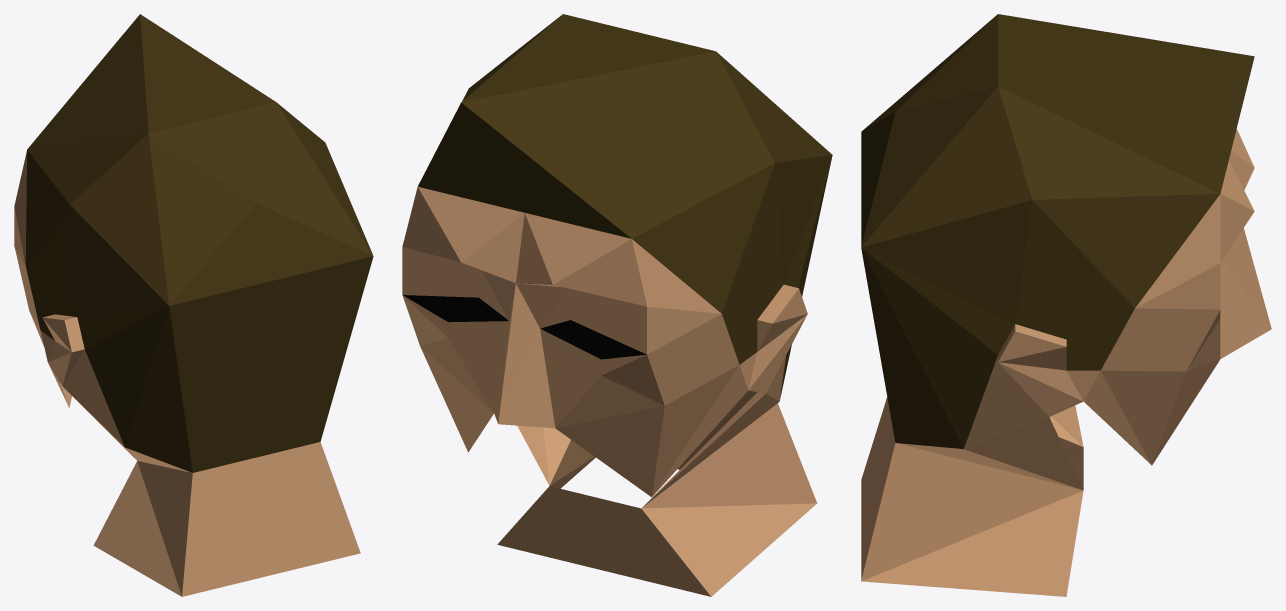
The model's file is player_male_head_6_0.obj.
3 renders of one model, left to right at view 1: azimuth 30°, elevation 25°; view 2: azimuth 150°, elevation 25°; view 3: azimuth 270°, elevation 25°, orthographic. The views are drawn at different scales.
Size of the model in its own units: 0.1719 by 0.2578 by 0.1875.
